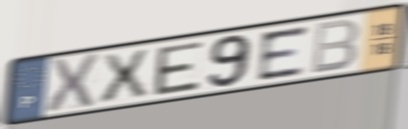9: (205, 33, 255, 91)
B: (309, 17, 361, 77)
E: (256, 23, 310, 83), (153, 39, 206, 98)
X: (44, 52, 100, 117), (97, 47, 151, 106)
